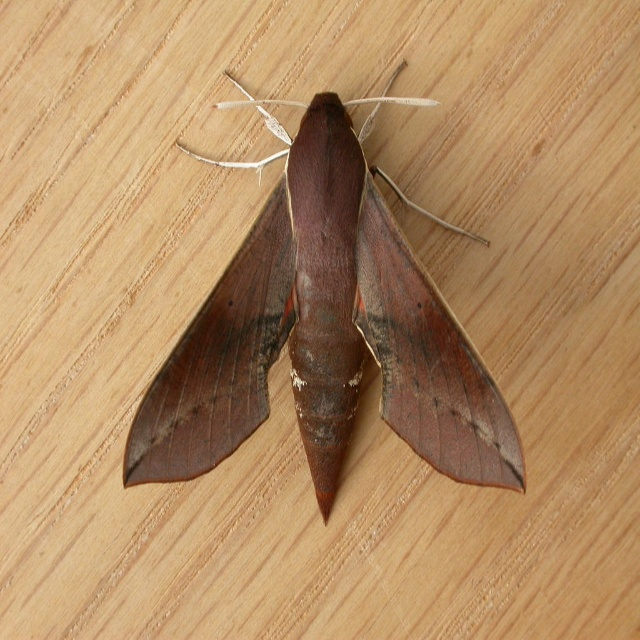Moths and butterflies: (121, 57, 529, 532)
